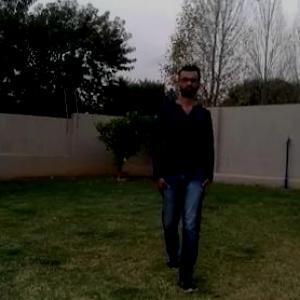follow: (160, 82, 207, 272)
